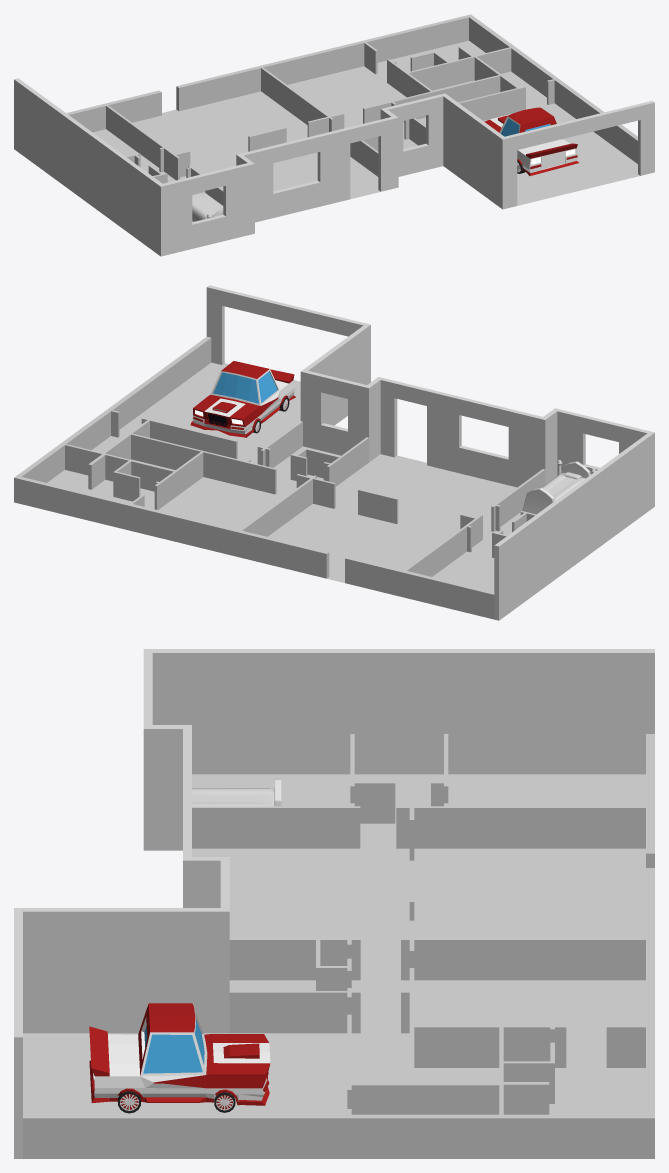
File: ggj_house_model_v2.FBX
The picture shows the model from 3 angles, top to bottom: view 1: azimuth 30°, elevation 25°; view 2: azimuth 150°, elevation 25°; view 3: azimuth 270°, elevation 25°; orthographic projection. The views are drawn at different scales.
Visible parts, largest first — view 1: Layer:0, Line001, Object002, Object001, body, Plane001; view 2: Layer:0, Line001, Object002, Object001, body, Box001, Plane001; view 3: Layer:0, Line001, Object002, Object001, body, Plane001.
Part boxes in pixels (x1=…): Layer:0: x1=14, y1=78, x2=654, y2=256; Line001: x1=93, y1=40, x2=639, y2=221; Object002: x1=106, y1=42, x2=554, y2=205; Object001: x1=66, y1=14, x2=637, y2=163; body: x1=484, y1=107, x2=578, y2=175; Plane001: x1=192, y1=192, x2=223, y2=221; Layer:0: x1=206, y1=285, x2=654, y2=620; Line001: x1=47, y1=362, x2=520, y2=591; Object002: x1=65, y1=410, x2=545, y2=576; Object001: x1=14, y1=336, x2=494, y2=619; body: x1=190, y1=361, x2=295, y2=437; Box001: x1=522, y1=487, x2=554, y2=514; Plane001: x1=541, y1=475, x2=581, y2=500; Layer:0: x1=14, y1=649, x2=654, y2=1158; Line001: x1=23, y1=774, x2=645, y2=1114; Object002: x1=192, y1=734, x2=645, y2=1114; Object001: x1=23, y1=734, x2=654, y2=1158; body: x1=89, y1=1003, x2=270, y2=1105; Plane001: x1=192, y1=788, x2=273, y2=806.
Bounding box in the file's own units: 2053 × 300 × 1433.
